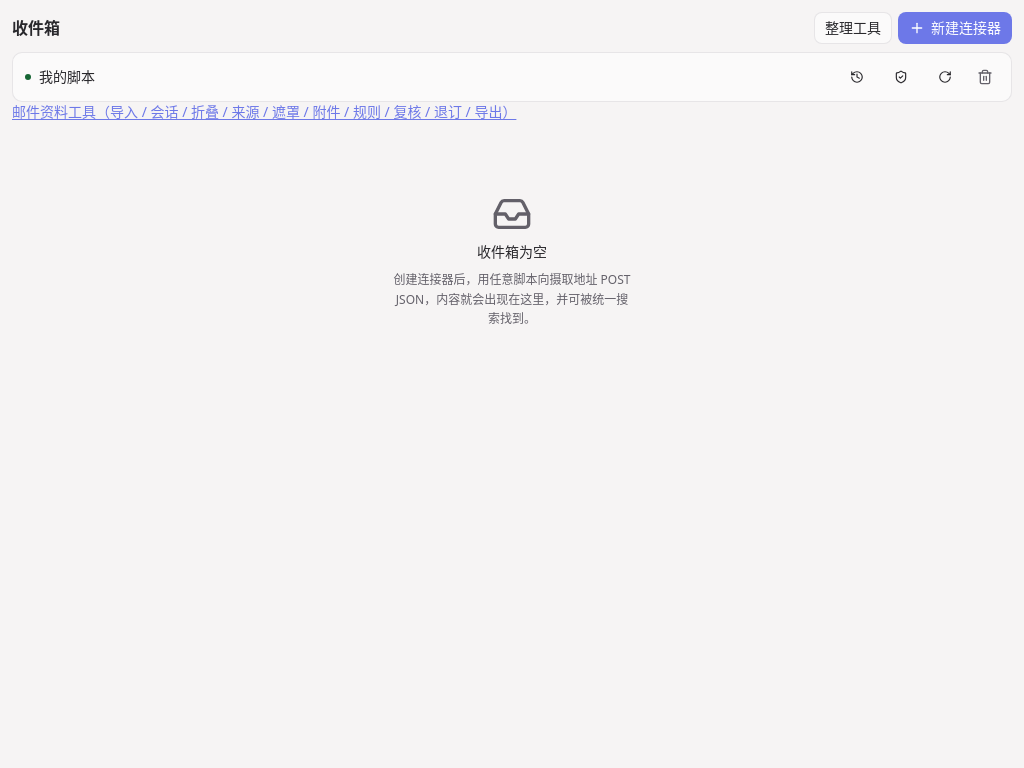
F107 投递记录与失败重放 › F107: 事件列表按状态渲染；failed 行重放成功
Click the button named "投递记录 我的脚本" at (857, 77), box top-left (839, 61), bottom-right (875, 93)
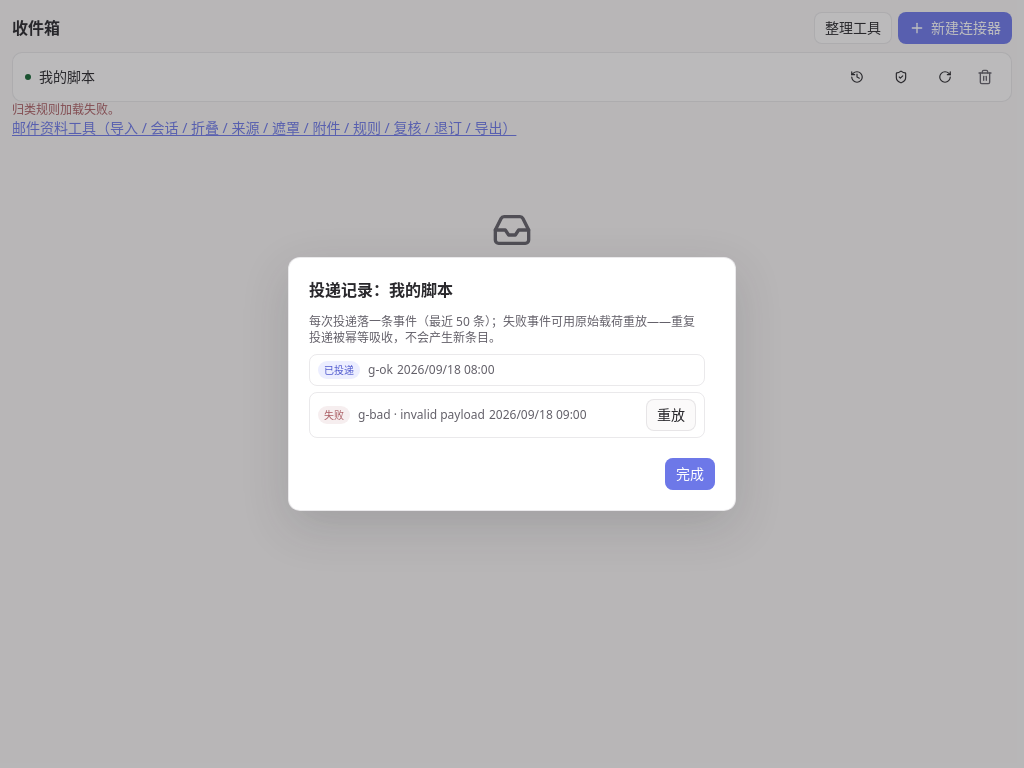
Expected: the list item "失败 g-bad · invalid payload2026/09/18 09:00 重放" is shown, top-left (309, 392), bottom-right (705, 438)
Expected: the list item "已投递 g-ok2026/09/18 08:00" is shown, top-left (309, 354), bottom-right (705, 386)
Click the button with aria-label "重放 9" at (671, 415), box top-left (646, 399), bottom-right (696, 431)
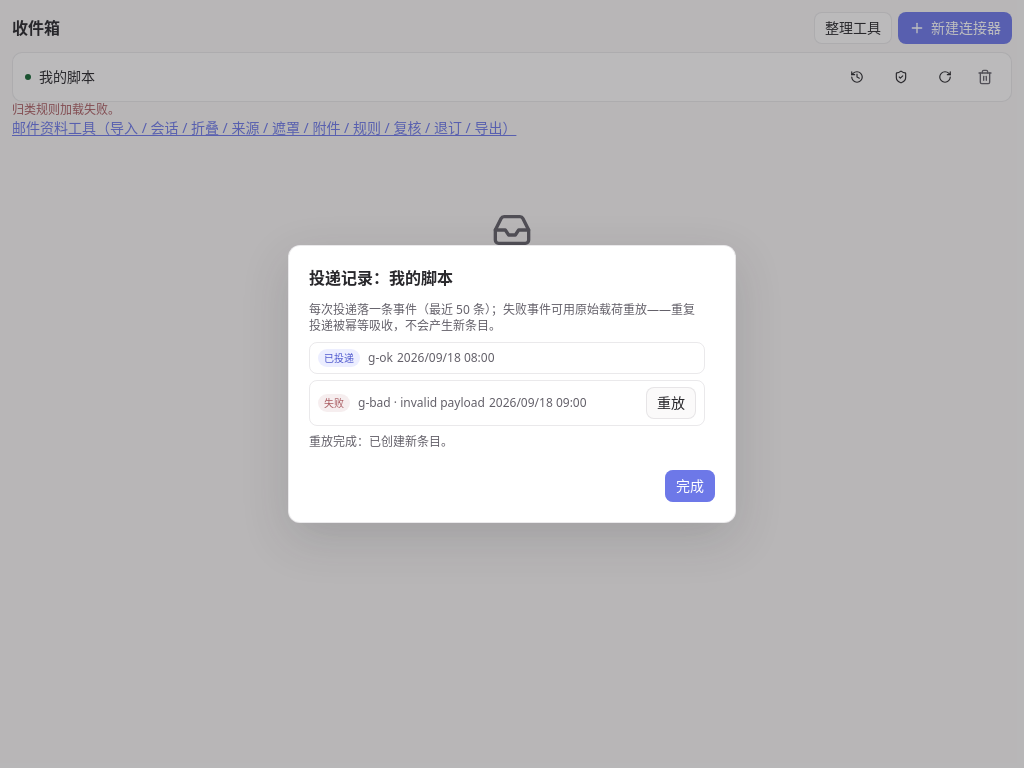
Expected: the message "重放完成：已创建新条目。" is shown, top-left (309, 433), bottom-right (453, 450)
